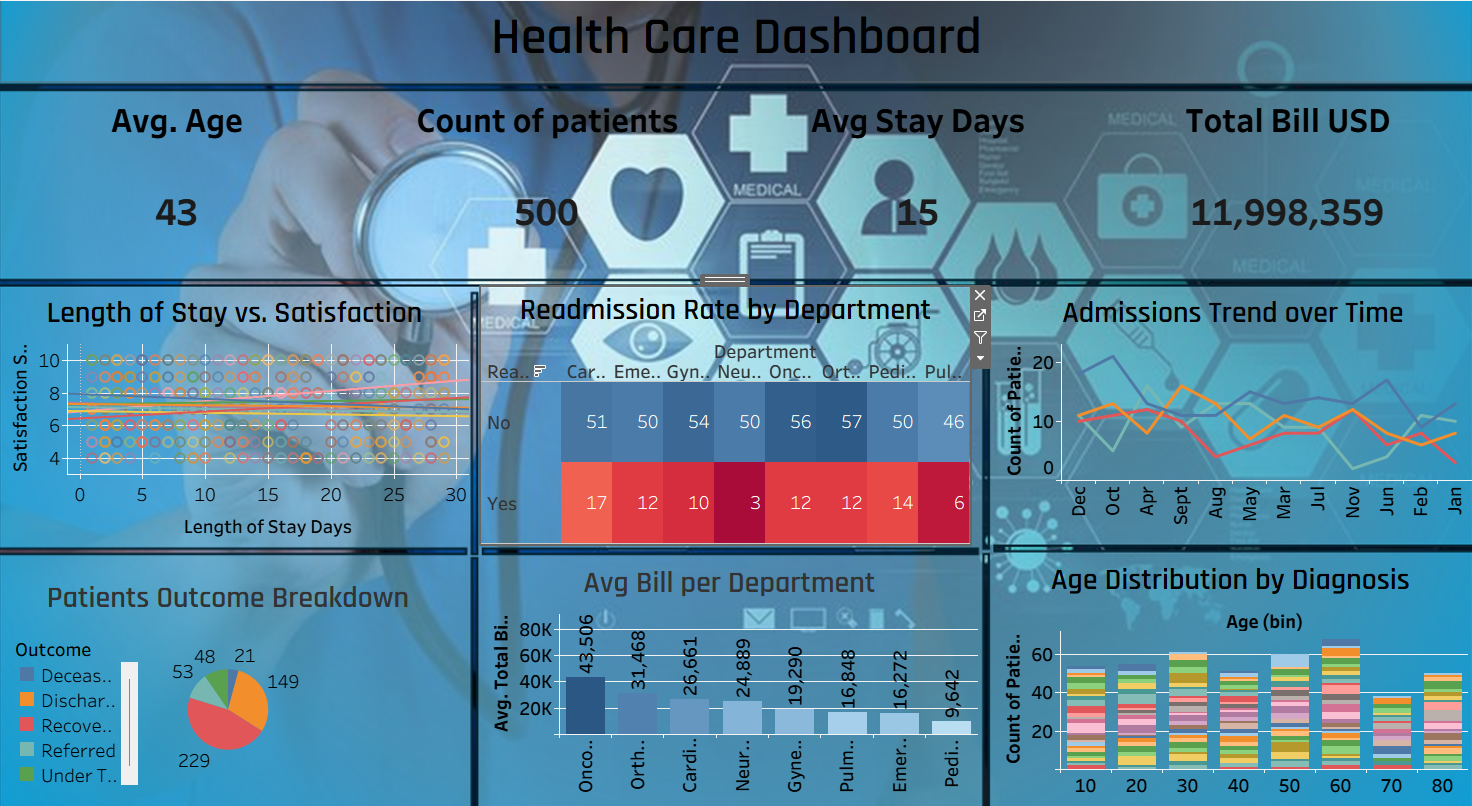

The page's visual inventory and layout, read from the dashboard file:
{"tool":"tableau","page":{"name":"Dashboard 1","canvas":[1480,850],"ordinal":0},"visuals":[{"type":"image","param":"C:/Users/ADMIN/Downloads/background.png","box":[1.2,0.9,1475.1,850.9]},{"type":"text","box":[3.7,3.8,1468.8,85.9]},{"type":"worksheet","title":"Readmission Rate by Department","mark":"Square","rows":["Readmitted"],"cols":["Department"],"box":[483,296,489,257]},{"type":"worksheet","title":"Length of Stay vs. Satisfaction","mark":"Automatic","rows":["Satisfaction_Score"],"cols":["Length_of_Stay_Days"],"box":[2,299,469,255]},{"type":"worksheet","title":"Admission Trend Over Time","mark":"Line","rows":["Patient_ID"],"cols":["Admission_Date"],"box":[996,299,478,250]},{"type":"worksheet","title":"Age Distribution by Diagnosis","mark":"Bar","rows":["Patient_ID"],"cols":["Age (bin)"],"box":[995,566,475,241]},{"type":"worksheet","title":"Avg Bill per Department","mark":"Automatic","rows":["Total_Bill_USD"],"cols":["Department"],"box":[483,569,497,234]},{"type":"worksheet","title":"Patients Outcome Breakdown","mark":"Pie","box":[2.8,584,454.3,215]},{"type":"legend","title":"Patients Outcome Breakdown","param":"[federated.0wy22hp0tiwtgl19332t213uout7].[none:Outcome:nk]","box":[17,645,125,149]}]}

Visuals, with their boxes on the page's 1480x850 design canvas (x1, y1, x2, y2). These are canvas units, not pixel positions in the 1472x806 screenshot, which may show the page scaled, cropped or inside an application window:
image: bbox(1, 1, 1476, 852)
text: bbox(4, 4, 1472, 90)
"Readmission Rate by Department" worksheet (Square marks): bbox(483, 296, 972, 553)
"Length of Stay vs. Satisfaction" worksheet: bbox(2, 299, 471, 554)
"Admission Trend Over Time" worksheet (Line marks): bbox(996, 299, 1474, 549)
"Age Distribution by Diagnosis" worksheet (Bar marks): bbox(995, 566, 1470, 807)
"Avg Bill per Department" worksheet: bbox(483, 569, 980, 803)
"Patients Outcome Breakdown" worksheet (Pie marks): bbox(3, 584, 457, 799)
"Patients Outcome Breakdown" legend: bbox(17, 645, 142, 794)
